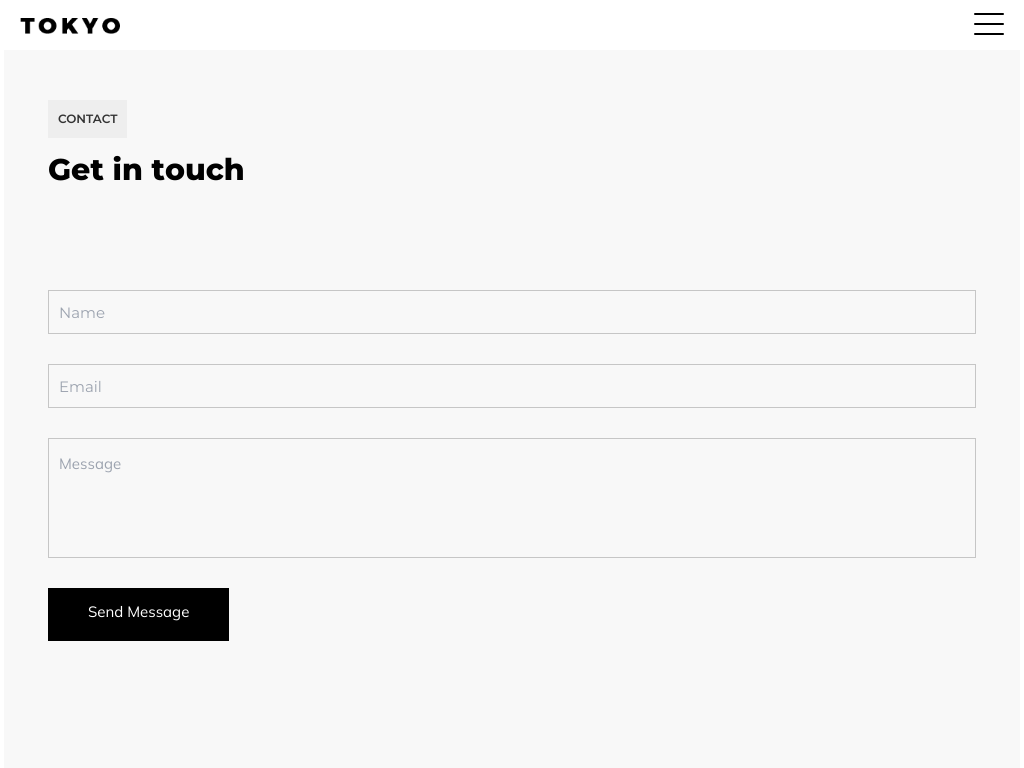
Test case: Contact page › Submit actions › Should handle blank error response correctly
Type "Papa Gula" into the field with test id "form-name" at point(512, 312), box [48,290,976,334]
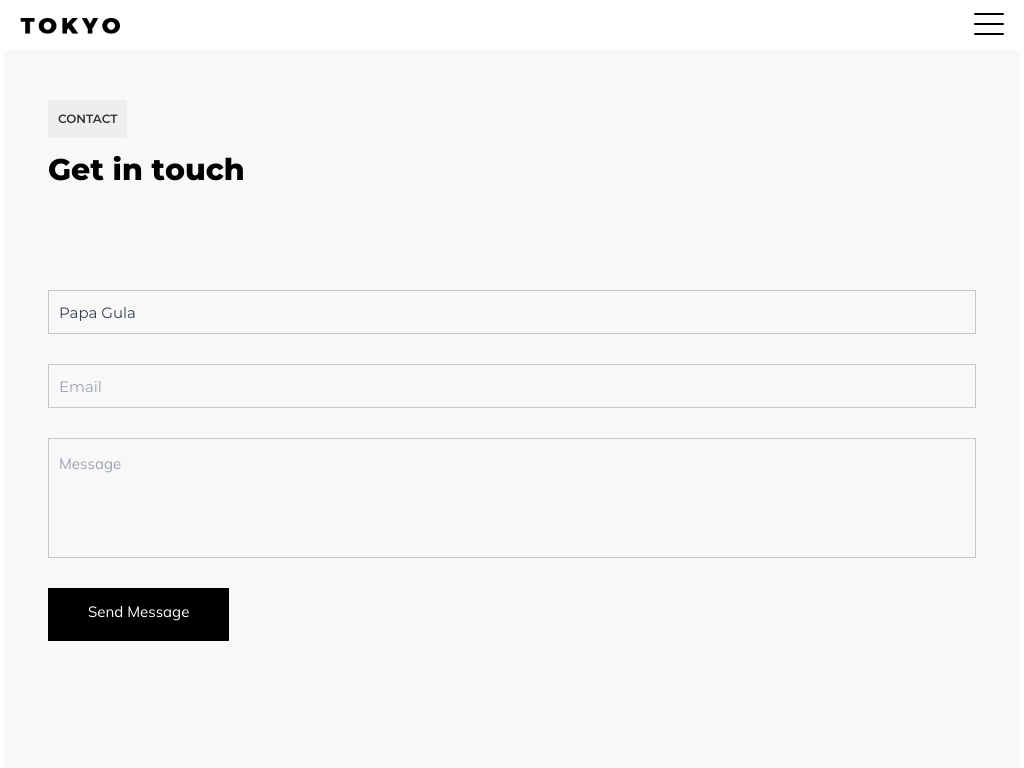
Type "papa@gula.com" into the field with test id "form-email" at point(512, 386), box [48,364,976,408]
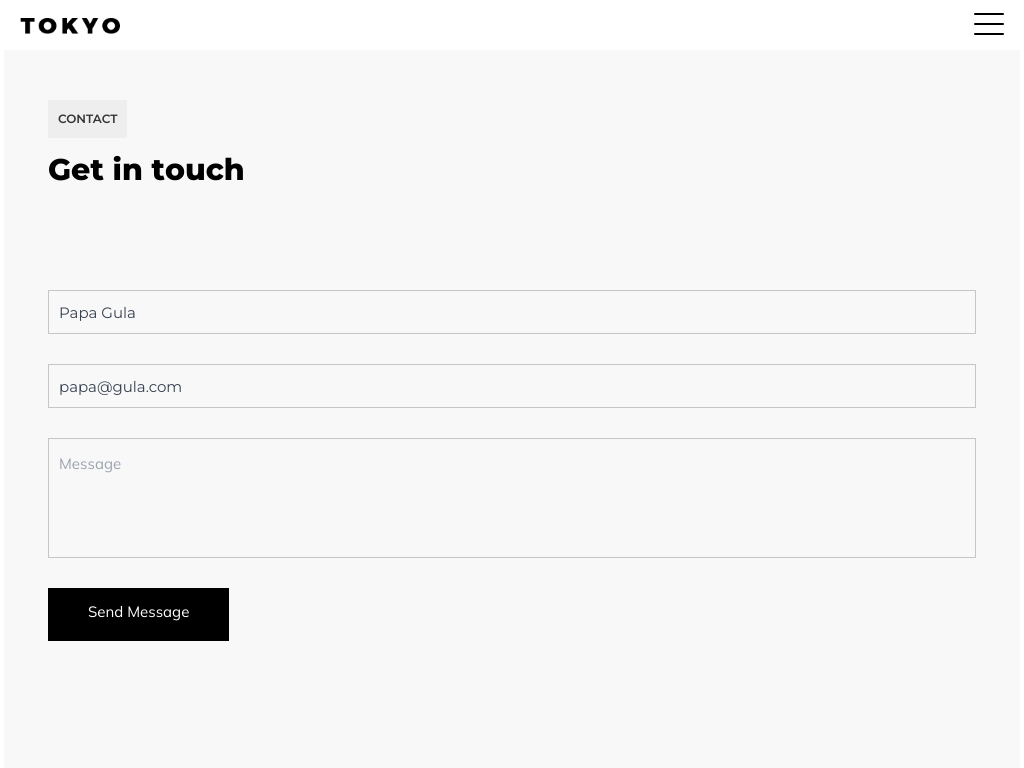
Type "Hi 👋🏻" into the text box with test id "form-message" at point(512, 498), box [48,438,976,558]
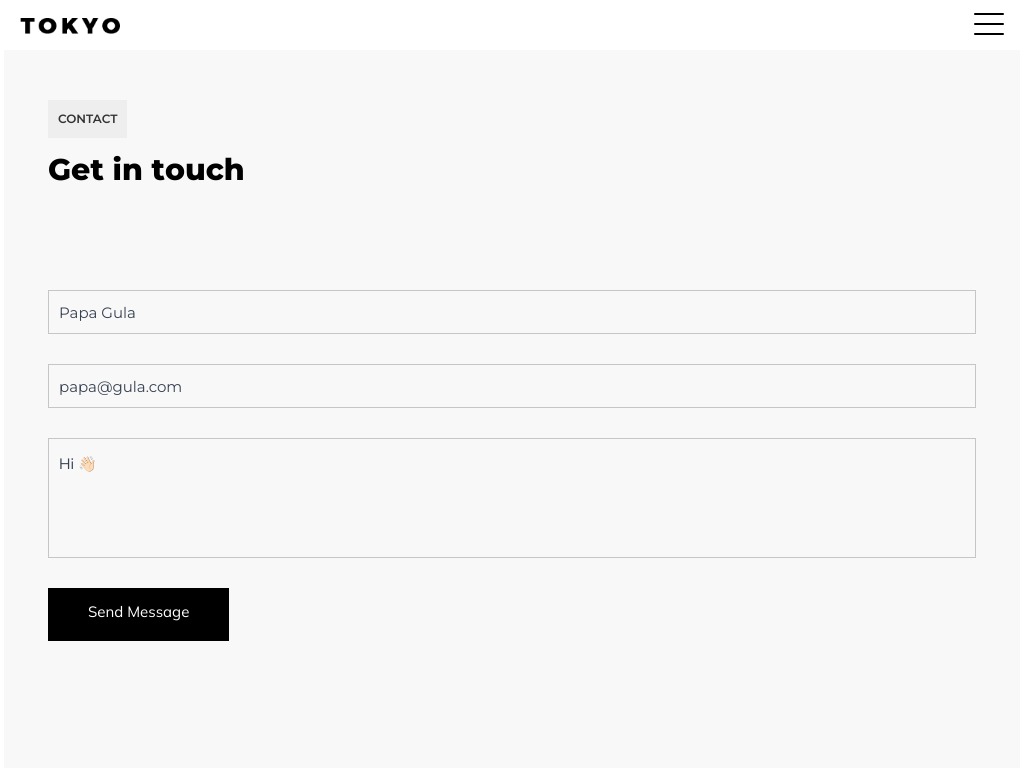
Click the button with test id "form-submit-button" at point(139, 614), box [48,588,229,641]
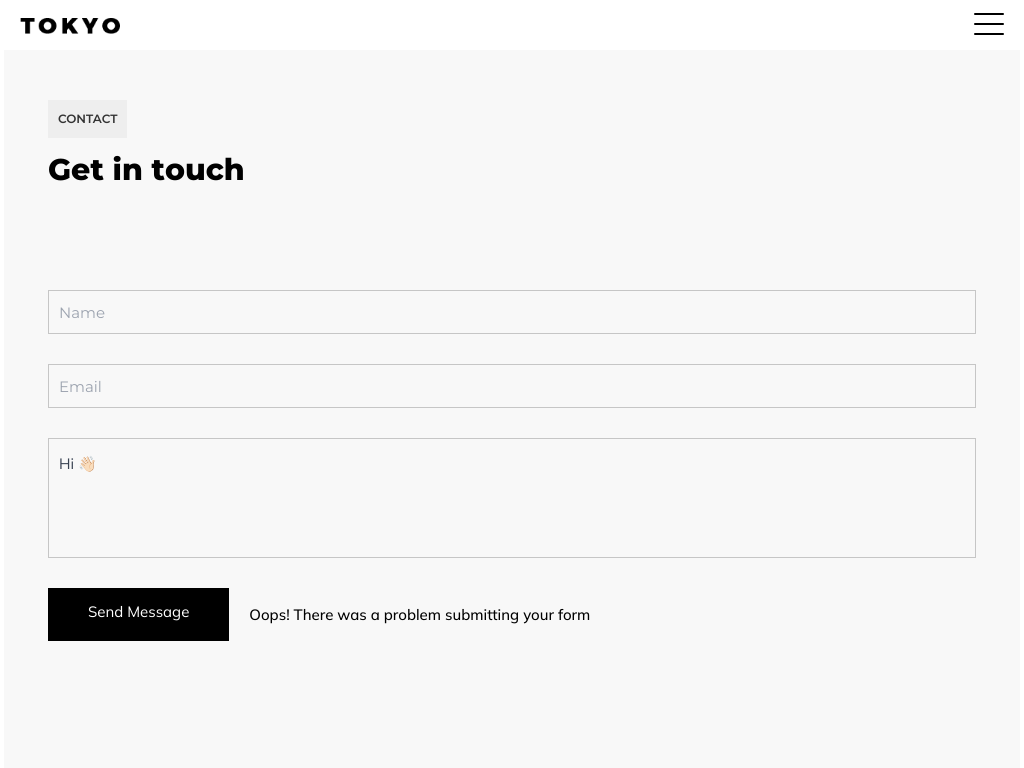
Expected: the element with test id "form-submit-result" reads "Oops! There was a problem submitting your form", [249,604,590,624]
